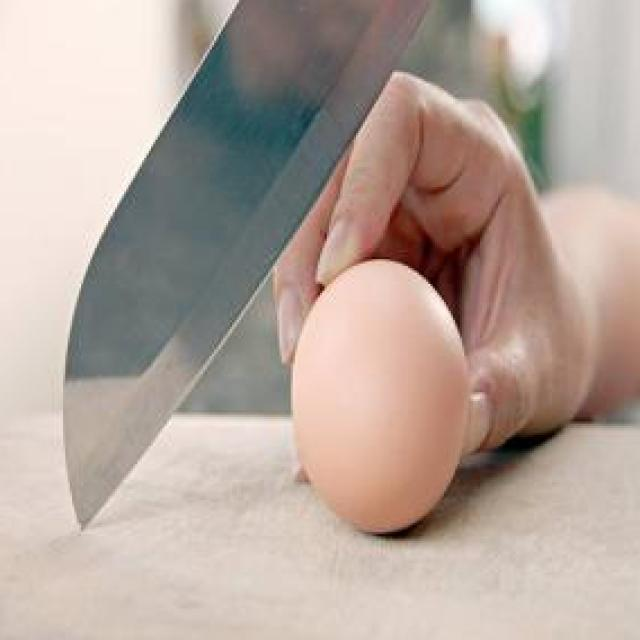knife: (43, 0, 448, 534)
